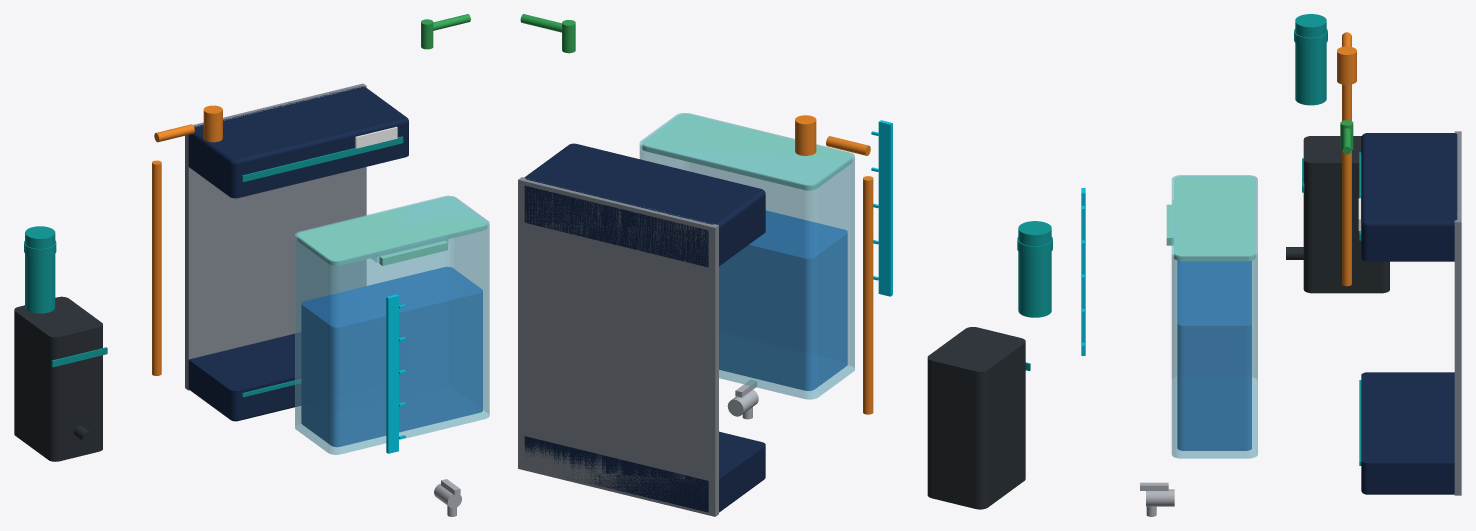
Rendered from aqualoop_exploded.glb.
3 views of the same model, side by side, from view 1: azimuth 30°, elevation 25°; view 2: azimuth 150°, elevation 25°; view 3: azimuth 270°, elevation 25° (orthographic). The views are drawn at different scales.
Parts seen in each view (by area): view 1: tank, tank_detail1, housing_detail1, housing, distribution, tank_detail2, overflow, safeguard, level, housing_detail2, inlet, tap (+1 smaller); view 2: housing_detail1, tank, housing, tank_detail1, distribution, tank_detail2, overflow, safeguard, level, inlet, tap; view 3: housing, tank, tank_detail1, distribution, tank_detail2, safeguard, housing_detail1, overflow, tap, level, housing_detail2, inlet.
Part boxes in pixels (left/top/right/bottom): tank: left=295, top=195, right=489, bottom=454; tank_detail1: left=301, top=266, right=482, bottom=447; housing_detail1: left=185, top=83, right=366, bottom=390; housing: left=188, top=86, right=408, bottom=421; distribution: left=14, top=296, right=102, bottom=461; tank_detail2: left=297, top=196, right=487, bottom=265; overflow: left=152, top=105, right=222, bottom=375; safeguard: left=24, top=226, right=56, bottom=313; level: left=386, top=294, right=405, bottom=453; housing_detail2: left=242, top=136, right=403, bottom=397; inlet: left=421, top=14, right=470, bottom=49; tap: left=434, top=479, right=461, bottom=516; housing_detail1: left=518, top=177, right=718, bottom=516; tank: left=639, top=113, right=854, bottom=399; housing: left=524, top=143, right=765, bottom=512; tank_detail1: left=719, top=210, right=847, bottom=390; distribution: left=927, top=327, right=1025, bottom=509; tank_detail2: left=642, top=114, right=852, bottom=190; overflow: left=795, top=115, right=873, bottom=414; safeguard: left=1017, top=221, right=1052, bottom=317; level: left=871, top=120, right=892, bottom=296; inlet: left=520, top=14, right=575, bottom=53; tap: left=727, top=380, right=758, bottom=419; housing: left=1361, top=133, right=1457, bottom=494; tank: left=1171, top=175, right=1257, bottom=458; tank_detail1: left=1177, top=260, right=1251, bottom=450; distribution: left=1286, top=136, right=1389, bottom=293; tank_detail2: left=1166, top=176, right=1255, bottom=261; safeguard: left=1294, top=14, right=1327, bottom=105; housing_detail1: left=1454, top=131, right=1461, bottom=495; overflow: left=1337, top=32, right=1356, bottom=286; tap: left=1140, top=482, right=1174, bottom=516; level: left=1081, top=188, right=1085, bottom=355; housing_detail2: left=1359, top=152, right=1361, bottom=465; inlet: left=1340, top=120, right=1353, bottom=154.
Size of the model in its own units: 0.7735 by 0.656 by 0.53.
